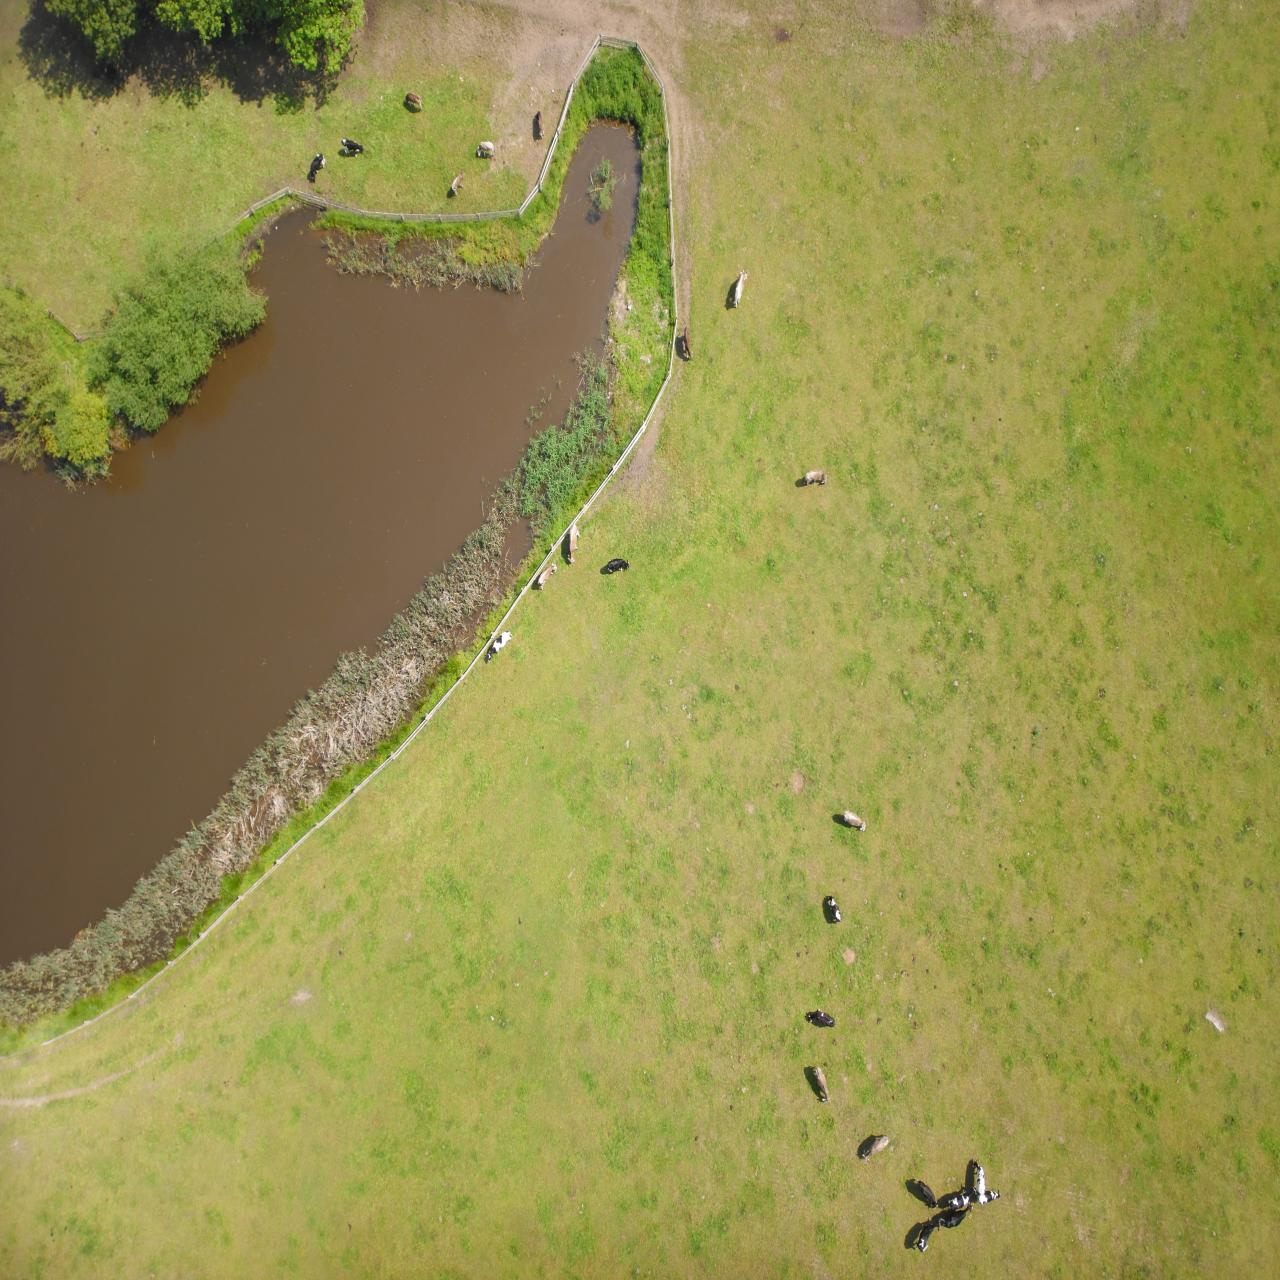cow: (339, 27, 363, 61), (768, 618, 792, 649), (392, 117, 418, 144), (341, 69, 362, 101), (306, 52, 341, 69), (449, 178, 467, 213), (306, 70, 334, 91), (723, 688, 742, 716), (444, 252, 471, 271), (954, 1097, 971, 1128), (700, 716, 713, 755), (533, 972, 546, 1009), (414, 449, 436, 470), (294, 87, 307, 122), (915, 1123, 938, 1142), (279, 75, 304, 90), (857, 1167, 874, 1189), (438, 358, 452, 383), (587, 920, 597, 958), (452, 795, 475, 810), (815, 1084, 829, 1108), (651, 707, 670, 721), (784, 1124, 803, 1138), (736, 1142, 743, 1170)
